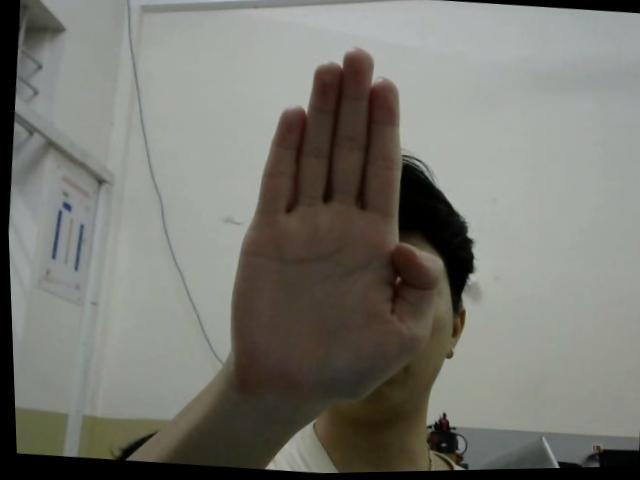B: (212, 33, 461, 419)
